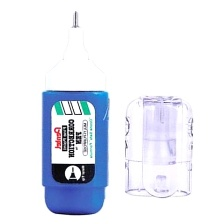correction_fluid: (38, 6, 112, 218)
